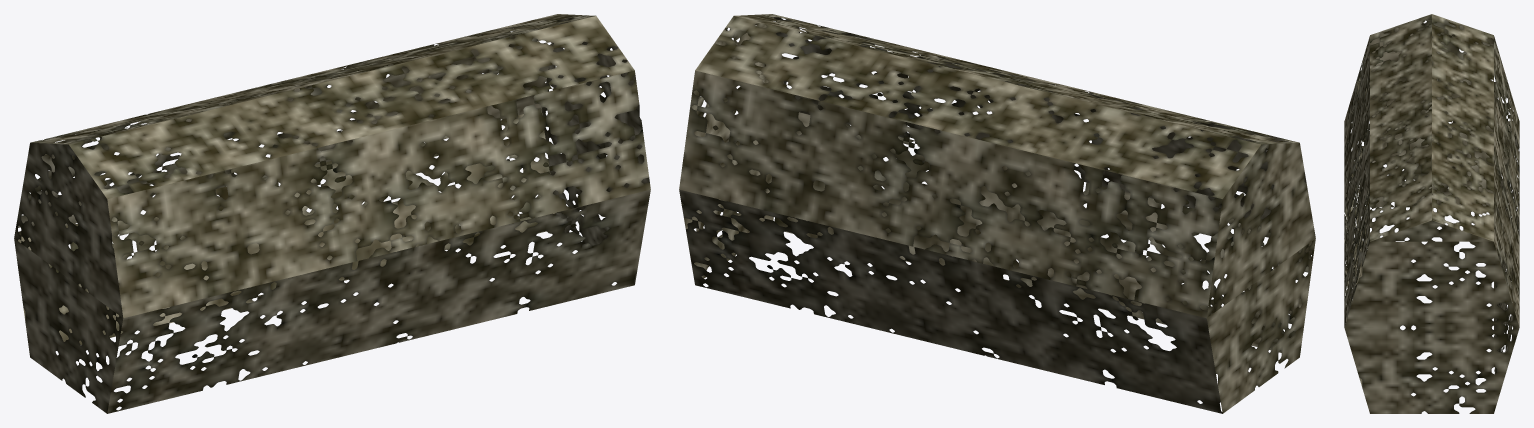
File: bush_long_dead..fbx
The picture shows the model from 3 angles, left to right: view 1: azimuth 30°, elevation 25°; view 2: azimuth 150°, elevation 25°; view 3: azimuth 270°, elevation 25°; orthographic projection. The views are drawn at different scales.
Visible parts, largest first — view 1: bush_long_dead.; view 2: bush_long_dead.; view 3: bush_long_dead..
Boxes of the visible parts, bbox=[...] form: bush_long_dead.: bbox=[14, 14, 650, 413]; bush_long_dead.: bbox=[679, 14, 1315, 413]; bush_long_dead.: bbox=[1344, 14, 1519, 413].
Bounding box in the file's own units: 201 × 87.65 × 71.91.
1 material, 1 textured.
